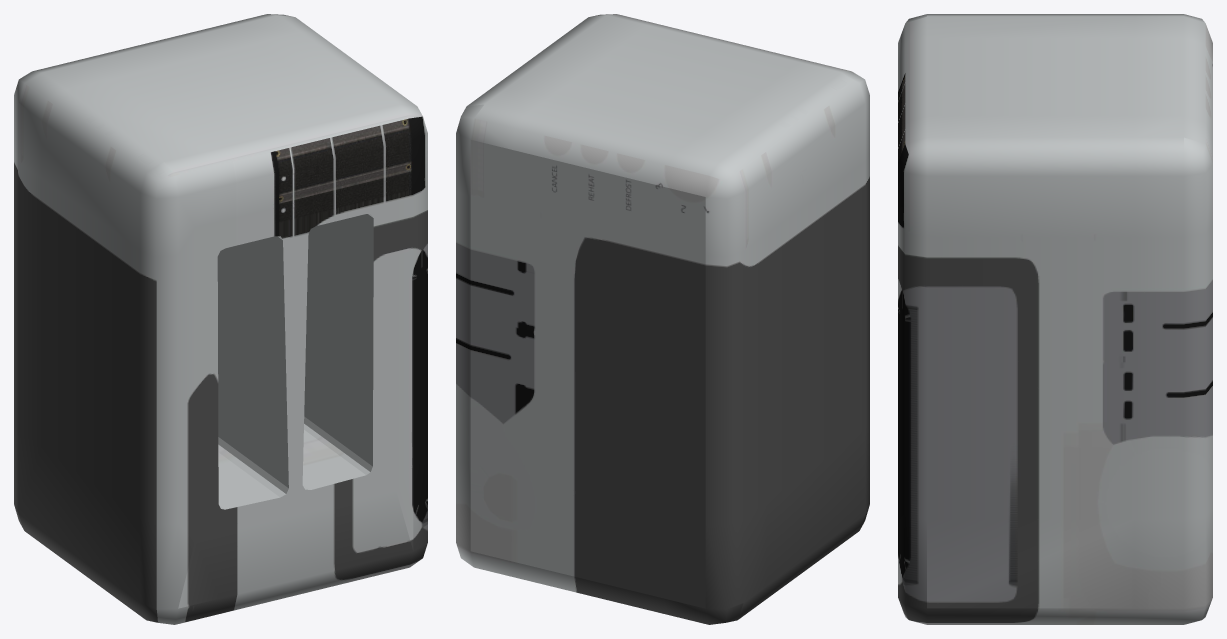
File: toaster_main_group_main_model_1.obj
3 views of the same model, side by side, from view 1: azimuth 30°, elevation 25°; view 2: azimuth 150°, elevation 25°; view 3: azimuth 270°, elevation 25° (orthographic). The views are drawn at different scales.
Size of the model in its own units: 0.5776 by 0.9004 by 0.5285.
1 material, 1 textured.
